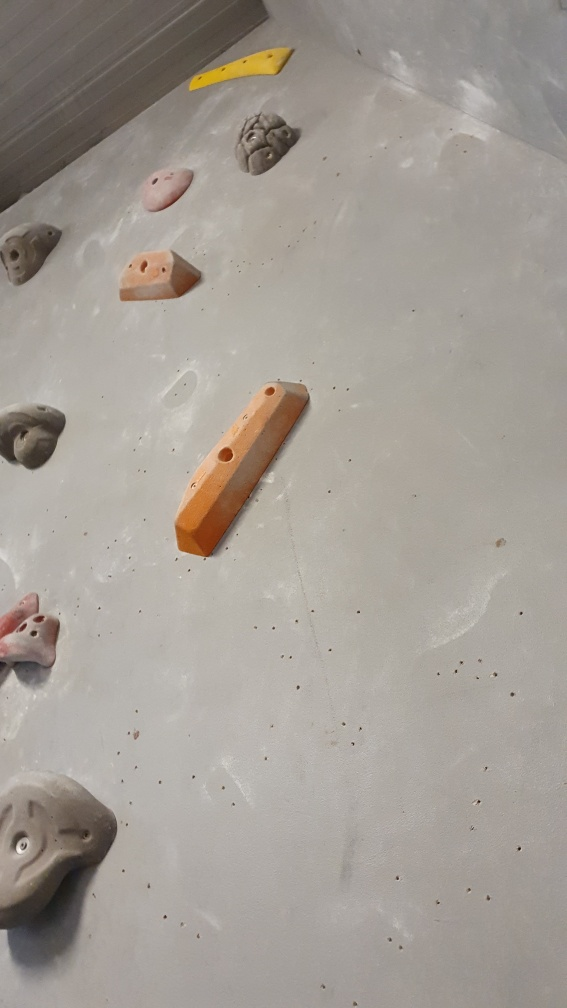Crimp: (188, 43, 298, 90)
Jug: (235, 114, 302, 175)
Pinch: (171, 378, 315, 560), (112, 248, 210, 305)
